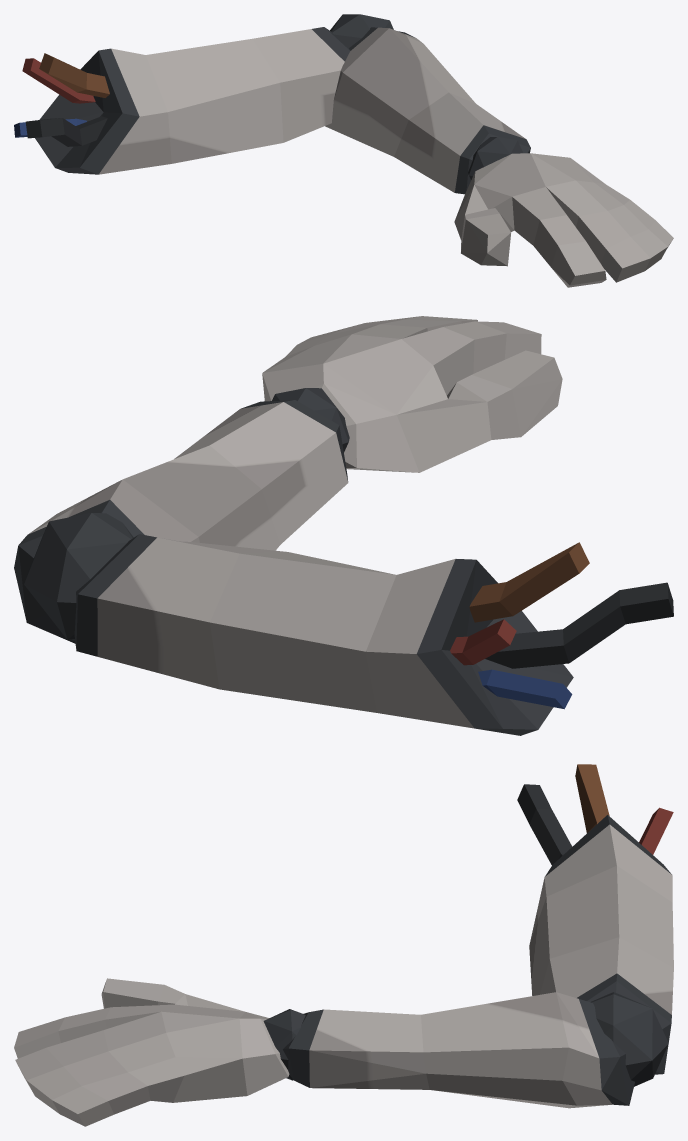
File: SM_Prop_Robot_Part_04.fbx
3 renders of one model, top to bottom at view 1: azimuth 30°, elevation 25°; view 2: azimuth 150°, elevation 25°; view 3: azimuth 270°, elevation 25°, orthographic. The views are drawn at different scales.
Parts seen in each view (by area): view 1: SM_Prop_Robot_Part_04; view 2: SM_Prop_Robot_Part_04; view 3: SM_Prop_Robot_Part_04.
Boxes of the visible parts, box(x1,y1,x2,y2) form: SM_Prop_Robot_Part_04: box(14, 14, 673, 287); SM_Prop_Robot_Part_04: box(14, 316, 673, 735); SM_Prop_Robot_Part_04: box(14, 764, 673, 1126).
Bounding box in the file's own units: 47.02 × 15.46 × 53.54.
